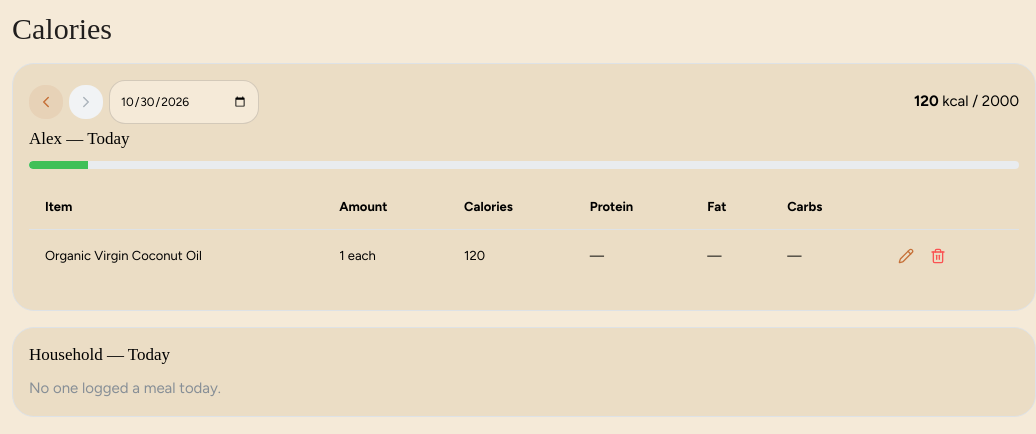
Scenario: CaloriesPage › offers a way straight back to today once you have navigated away
Expected: the text "Organic Virgin Coconut Oil" is shown, [29,229,323,282]
Click the button named "Previous day" at x=46, y=102, box [29,84,63,118]
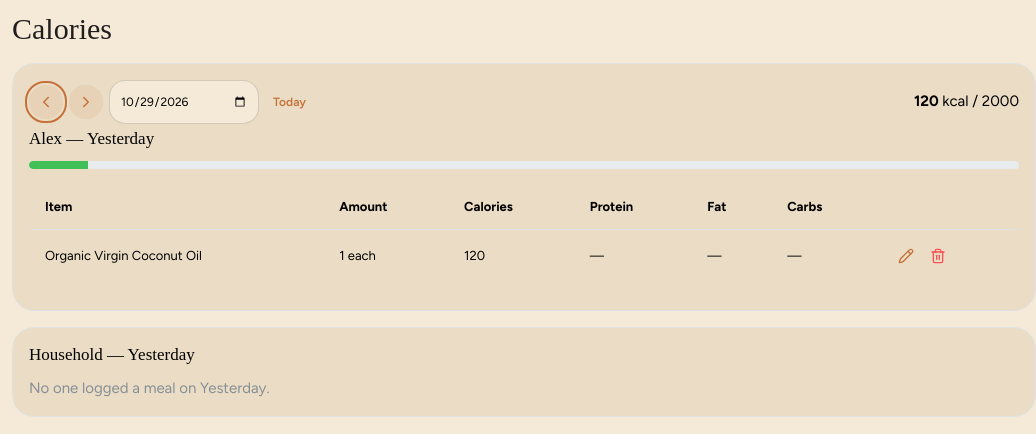
Click the button "Today" at x=290, y=102, box [265,90,314,112]
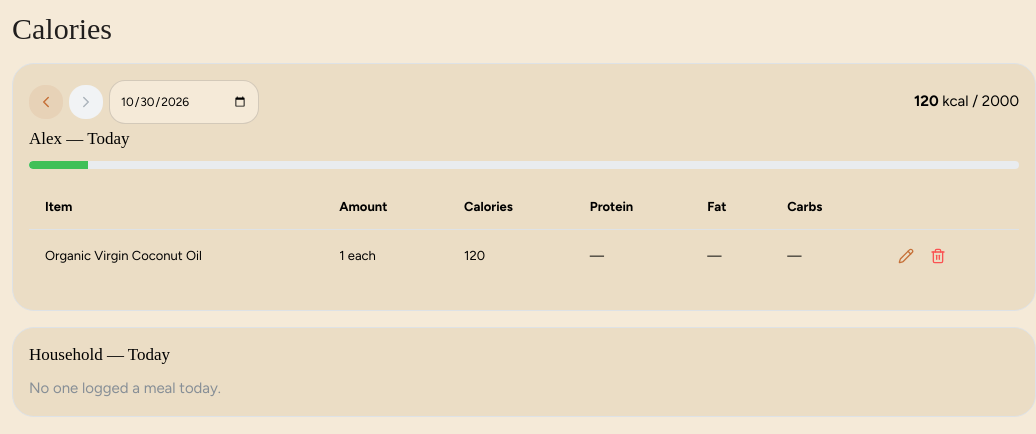
Now the heading "Alex — Today" is shown, box [29,128,130,148]
